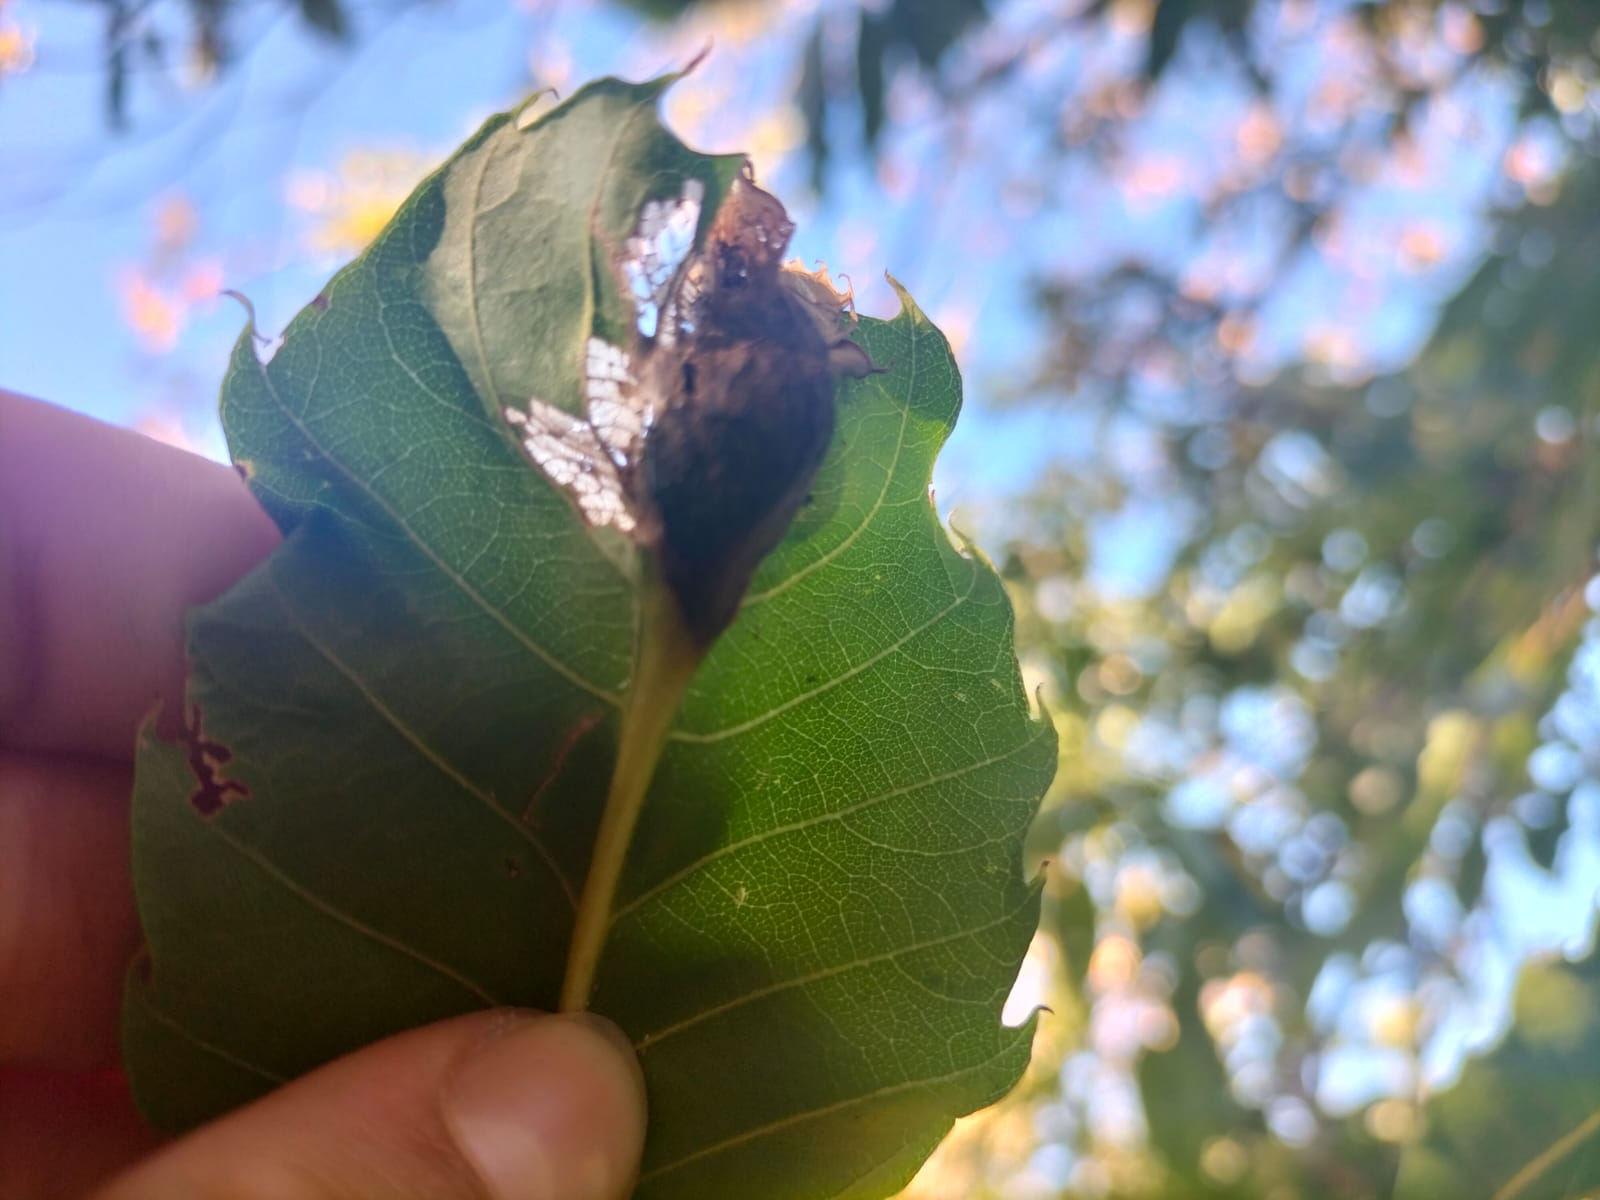galarisi: (509, 95, 963, 713)
